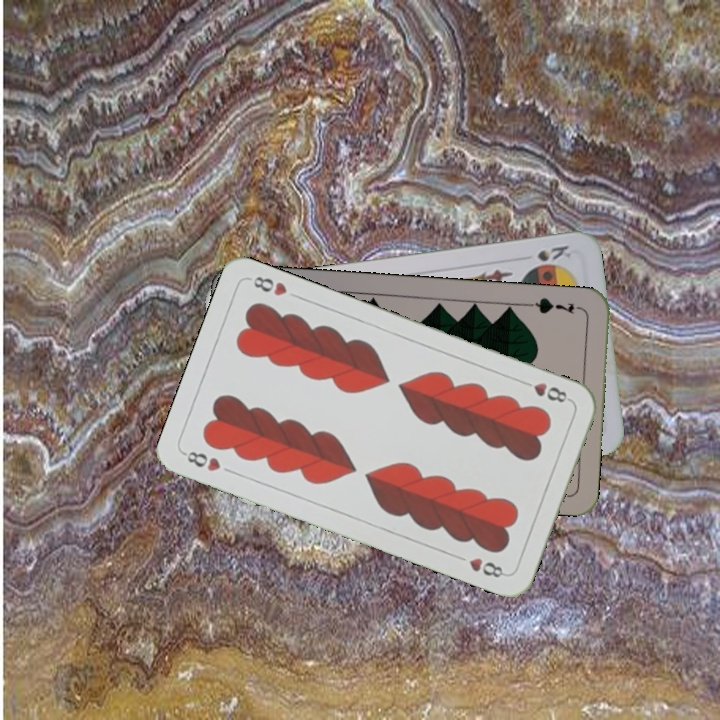G7: (525, 294, 584, 317)
H8: (516, 376, 573, 406), (180, 447, 223, 474)
SK: (525, 241, 574, 271)
